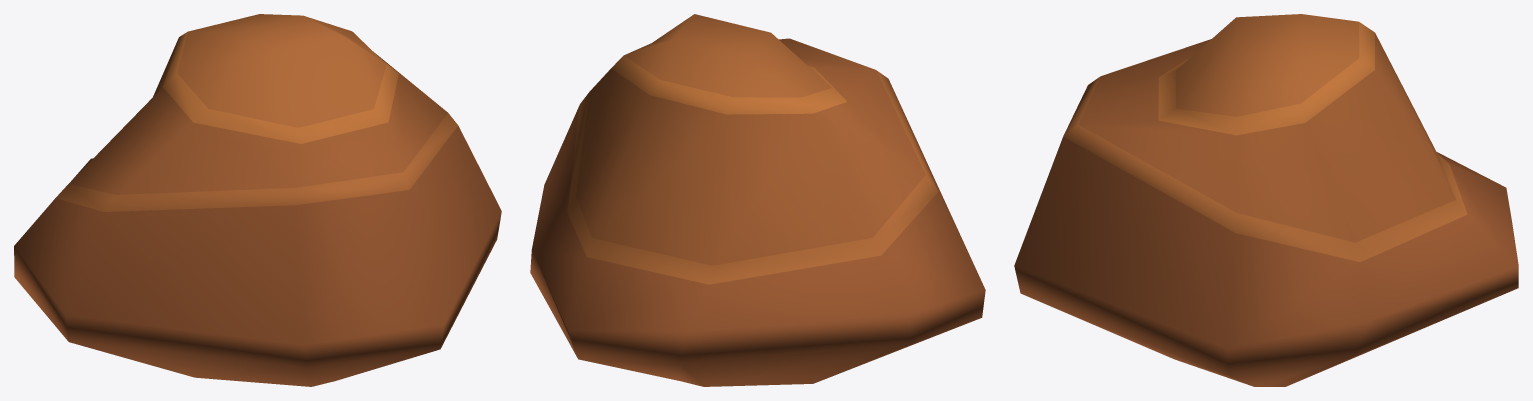
Rendered from bronze_ore_S.fbx.
The picture shows the model from 3 angles, left to right: view 1: azimuth 30°, elevation 25°; view 2: azimuth 150°, elevation 25°; view 3: azimuth 270°, elevation 25°; orthographic projection. The views are drawn at different scales.
Parts seen in each view (by area): view 1: bronze_ore_S; view 2: bronze_ore_S; view 3: bronze_ore_S.
Part boxes in pixels (x1=…): bronze_ore_S: x1=14, y1=14, x2=501, y2=386; bronze_ore_S: x1=530, y1=14, x2=985, y2=386; bronze_ore_S: x1=1014, y1=14, x2=1518, y2=386.
Size of the model in its own units: 33.88 by 23.28 by 32.86.
1 material, 1 textured.
